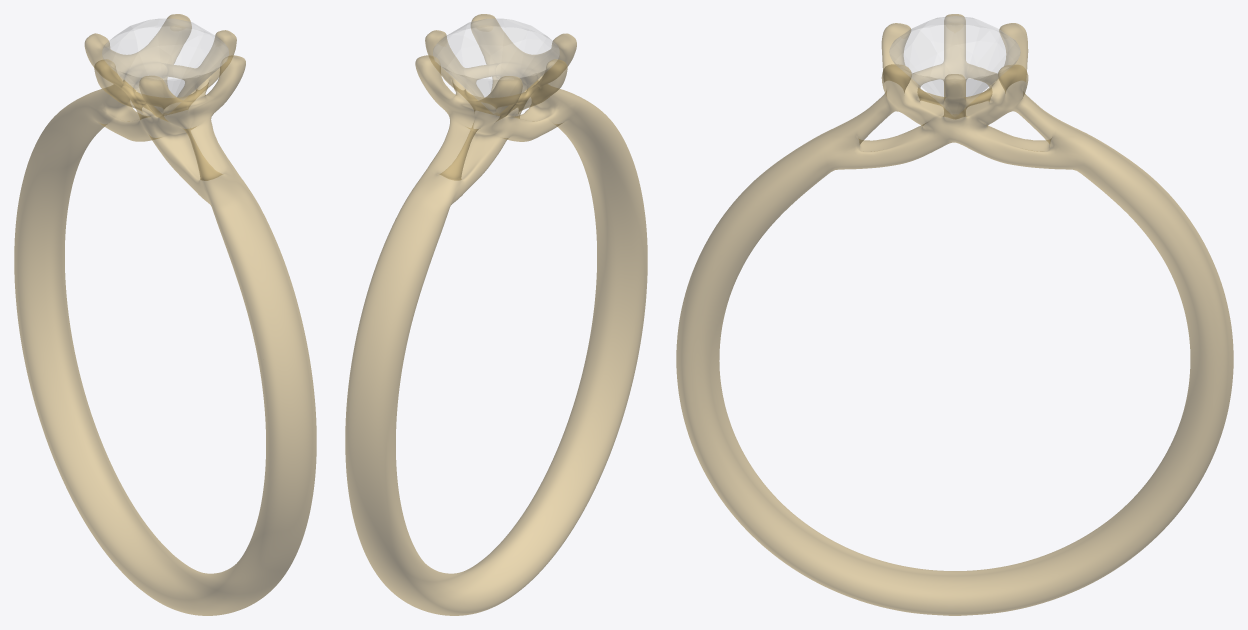
3 views of the same model, side by side, from view 1: azimuth 30°, elevation 25°; view 2: azimuth 150°, elevation 25°; view 3: azimuth 270°, elevation 25° (orthographic). The views are drawn at different scales.
Parts seen in each view (by area): view 1: Ring, Diamond; view 2: Ring, Diamond; view 3: Ring, Diamond.
Boxes of the visible parts, <box> form: Ring: <box>14,14,316,615</box>; Diamond: <box>102,19,228,115</box>; Ring: <box>345,14,647,615</box>; Diamond: <box>433,19,559,115</box>; Ring: <box>676,14,1233,615</box>; Diamond: <box>889,16,1020,113</box>.
Size of the model in its own units: 0.6776 by 2.67 by 2.32.
